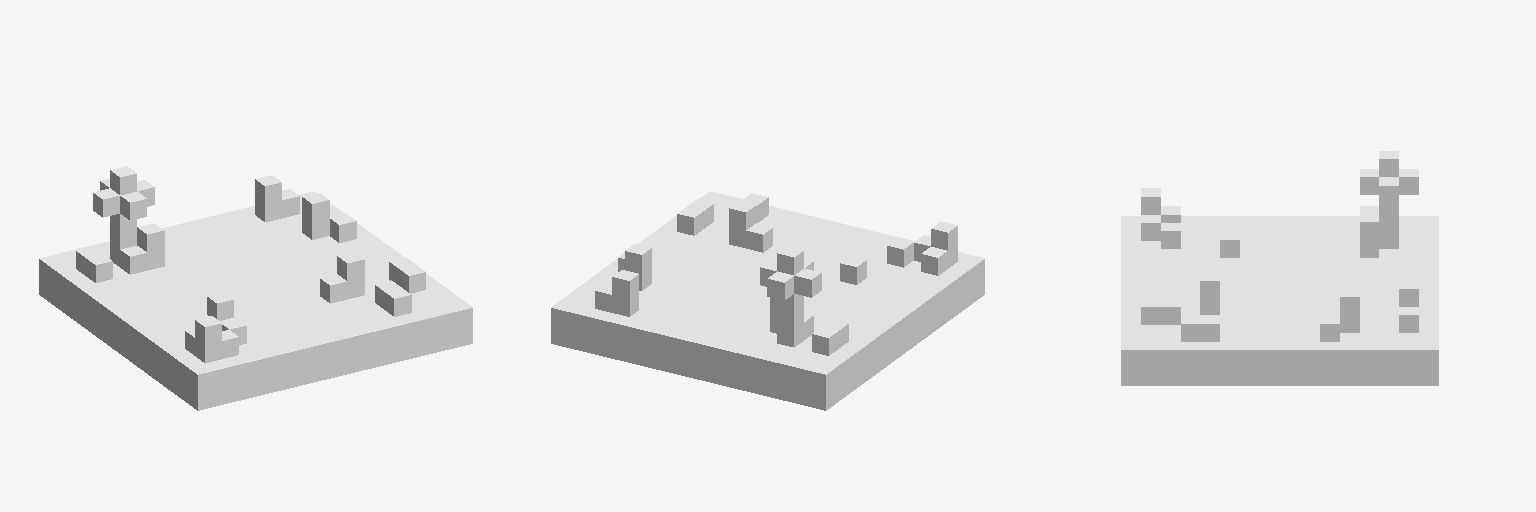
Rendered from Road_X_turn_1.obj.
The picture shows the model from 3 angles: view 1: azimuth 30°, elevation 25°; view 2: azimuth 150°, elevation 25°; view 3: azimuth 270°, elevation 25°; orthographic projection.
Parts seen in each view (by area): view 1: object 1; view 2: object 1; view 3: object 1.
Part boxes in pixels (bbox=[...]): object 1: bbox=[39, 166, 472, 410]; object 1: bbox=[551, 191, 984, 410]; object 1: bbox=[1121, 151, 1438, 385].
Bounding box in the file's own units: 1.6 × 0.7 × 1.6.